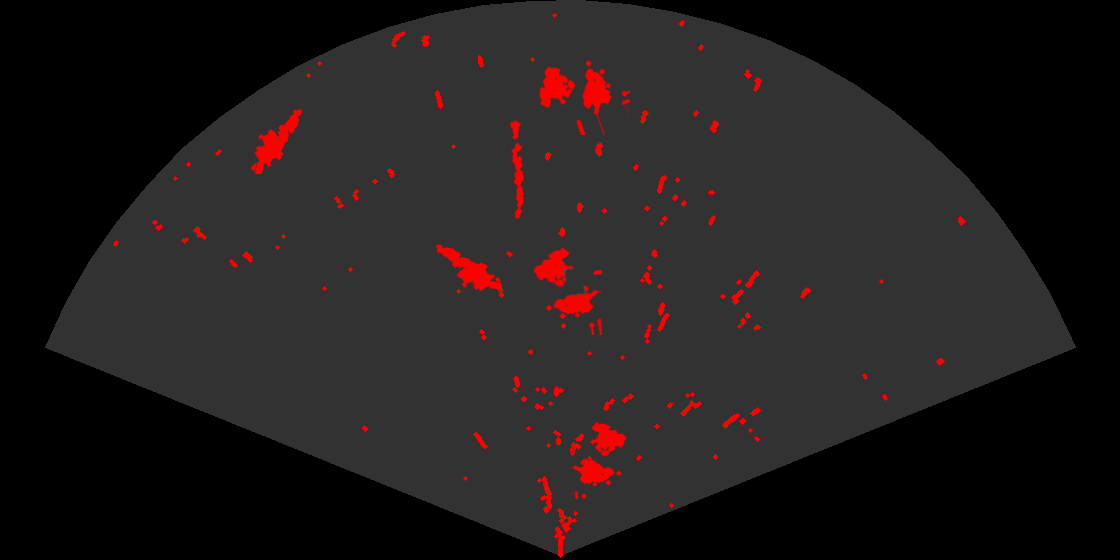cage: (537, 58, 630, 135), (532, 245, 602, 335), (570, 420, 628, 499)
chain: (509, 118, 526, 221)
frogman: (253, 107, 304, 174), (434, 243, 501, 292)
